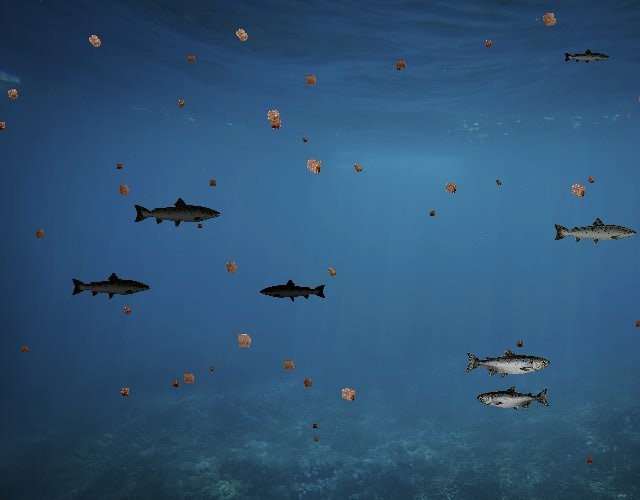Fish: (132, 196, 222, 229), (552, 216, 638, 247), (464, 348, 550, 379), (70, 272, 151, 301), (478, 385, 551, 411), (259, 279, 327, 303), (563, 49, 610, 66)
Pellet: (1, 83, 24, 105), (348, 159, 367, 178), (392, 55, 410, 73), (512, 337, 526, 351), (426, 207, 439, 220), (113, 160, 125, 172), (206, 364, 216, 374)
